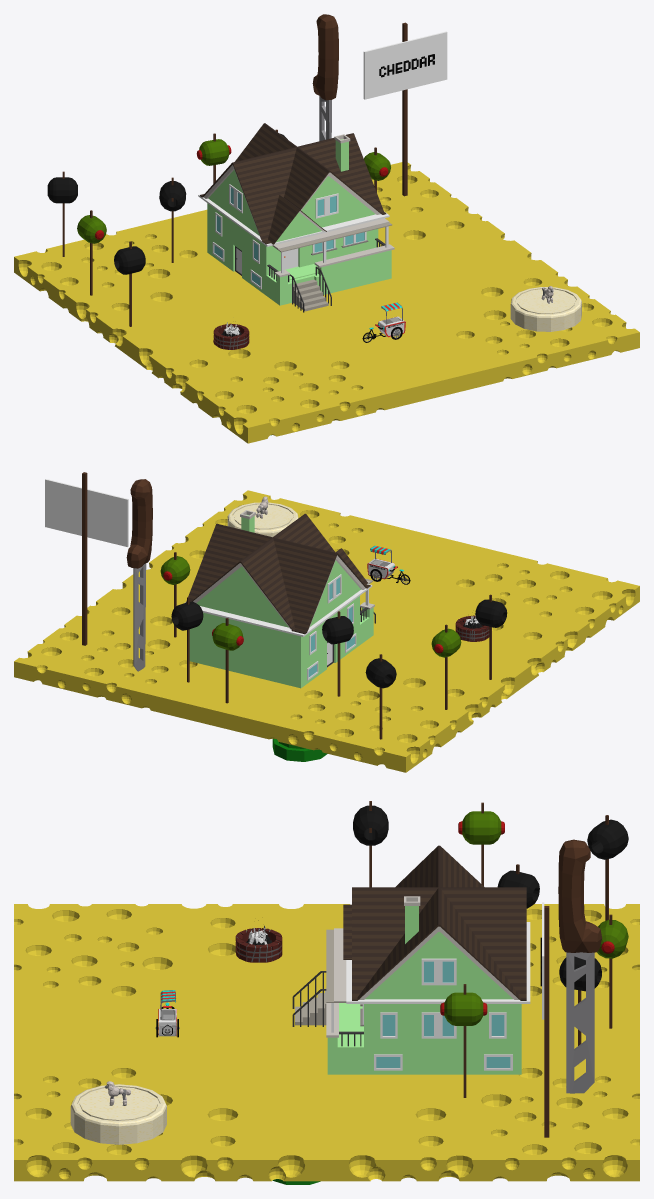
3 renders of one model, top to bottom at view 1: azimuth 30°, elevation 25°; view 2: azimuth 150°, elevation 25°; view 3: azimuth 270°, elevation 25°, orthographic. The views are drawn at different scales.
Parts seen in each view (by area): view 1: Cube.022, Cube.274, Cube.023, Cylinder.016, Cube.024, Sphere.017, Sphere.016, OBJRANDOM_CAMPFIRE, Sphere.020, Sphere.018, Sphere.022, VEHICLES_SNOWBAL_BIKE (+1 smaller); view 2: Cube.022, Cube.274, Cube.023, Cube.024, Cylinder.016, Sphere.020, Sphere.016, Sphere.022, Sphere.017, Sphere.021, Sphere.018, VEHICLES_SNOWBAL_BIKE (+3 smaller); view 3: Cube.022, Cube.274, Cube.024, Cylinder.016, Cube.023, Sphere.019, Sphere.016, OBJRANDOM_CAMPFIRE, Sphere.018, Sphere.017, Sphere.022, VEHICLES_SNOWBAL_BIKE (+2 smaller).
Part boxes in pixels (x1,y1,x2,y2): Cube.022: (14, 162, 639, 443); Cube.274: (198, 123, 394, 312); Cube.023: (363, 22, 447, 196); Cylinder.016: (510, 287, 581, 331); Cube.024: (312, 14, 338, 141); Sphere.017: (114, 241, 145, 326); Sphere.016: (47, 171, 77, 256); OBJRANDOM_CAMPFIRE: (213, 322, 249, 349); Sphere.020: (159, 177, 186, 262); Sphere.018: (77, 210, 106, 295); Sphere.022: (196, 133, 231, 183); VEHICLES_SNOWBAL_BIKE: (362, 302, 405, 342); Cube.022: (14, 490, 639, 772); Cube.274: (185, 510, 375, 688); Cube.023: (45, 472, 128, 645); Cube.024: (126, 479, 152, 671); Cylinder.016: (227, 502, 298, 537); Sphere.020: (322, 611, 353, 696); Sphere.016: (365, 654, 396, 739); Sphere.022: (212, 618, 243, 703); Sphere.017: (475, 594, 507, 679); Sphere.021: (171, 597, 203, 682); Sphere.018: (431, 624, 461, 709); VEHICLES_SNOWBAL_BIKE: (367, 545, 410, 584); Cube.022: (14, 904, 639, 1181); Cube.274: (292, 845, 530, 1074); Cube.024: (558, 839, 602, 1093); Cylinder.016: (70, 1084, 166, 1144); Cube.023: (540, 902, 549, 1137); Sphere.019: (440, 984, 487, 1097); Sphere.016: (587, 815, 628, 920); OBJRANDOM_CAMPFIRE: (235, 920, 282, 962); Sphere.018: (458, 802, 504, 885); Sphere.017: (353, 801, 388, 887); Sphere.022: (597, 914, 628, 1028); VEHICLES_SNOWBAL_BIKE: (155, 990, 179, 1037).
Size of the model in its own units: 3917 by 2590 by 4000.
35 materials, 3 textured.
